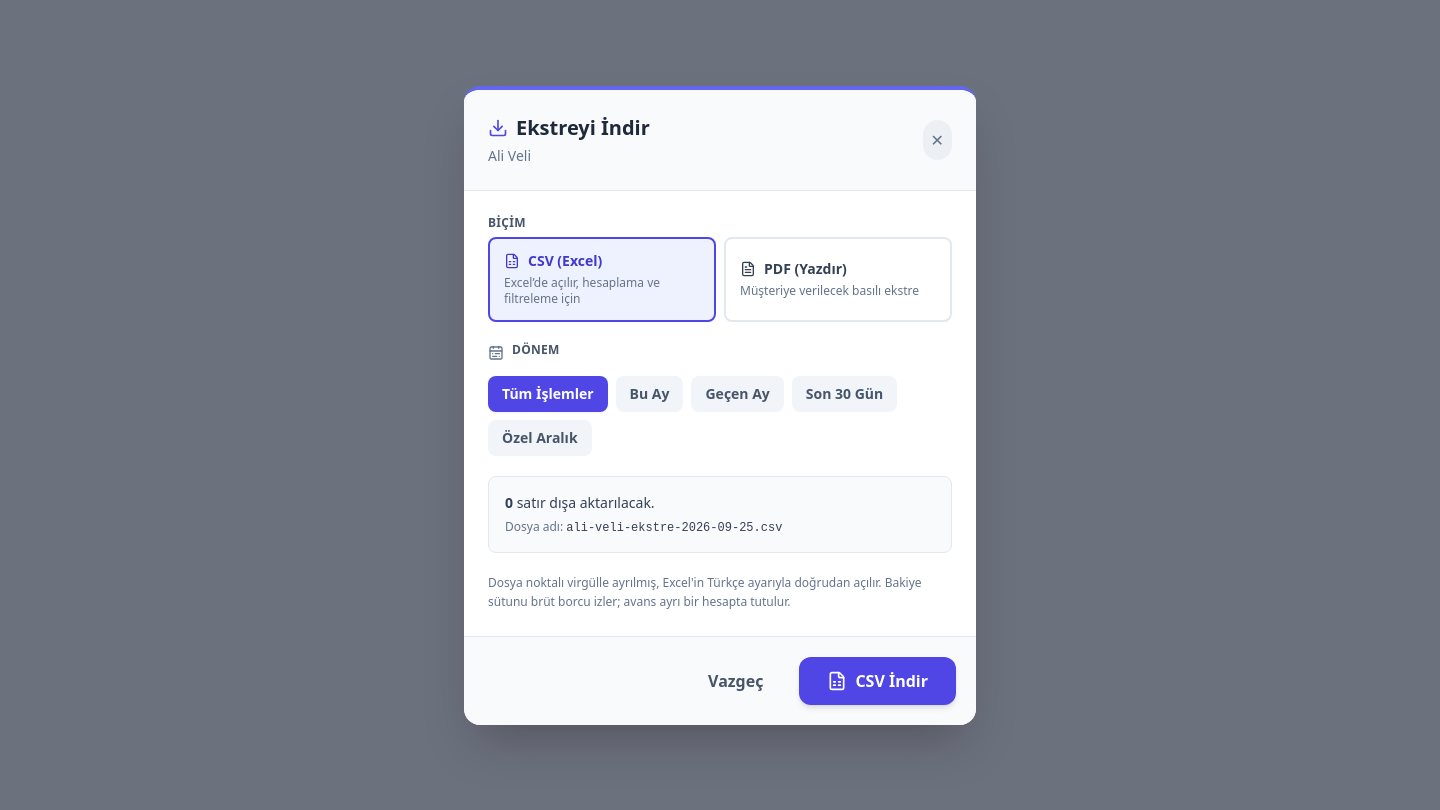
Test: StatementExportModal — PDF bicimi › bos ekstrede PDF de uretilmez
Click the button "PDF (Yazdır) Müşteriye verilecek basılı ekstre" at (838, 279), box [724,236,952,322]
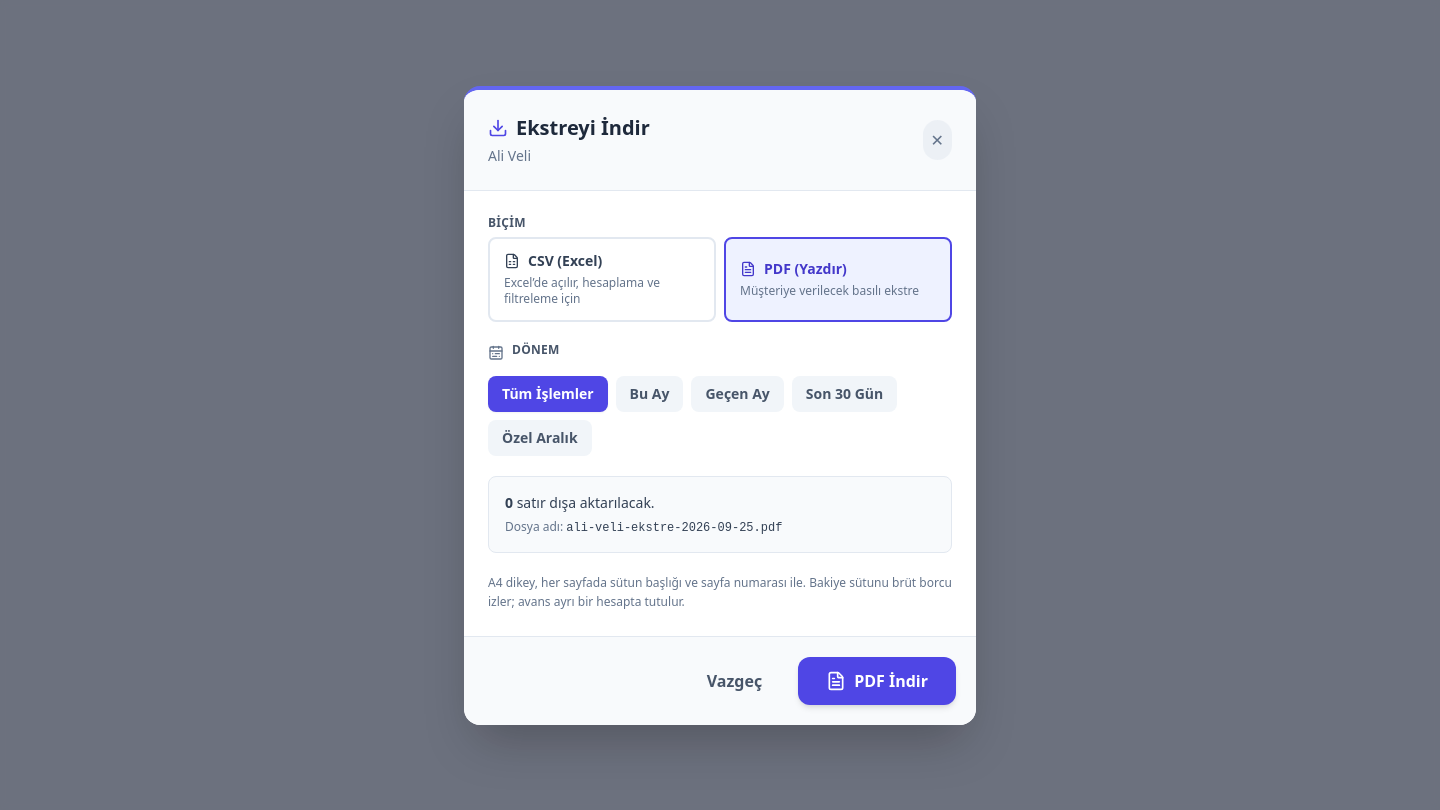
Click the button "PDF İndir" at (877, 680), box [798,656,956,704]
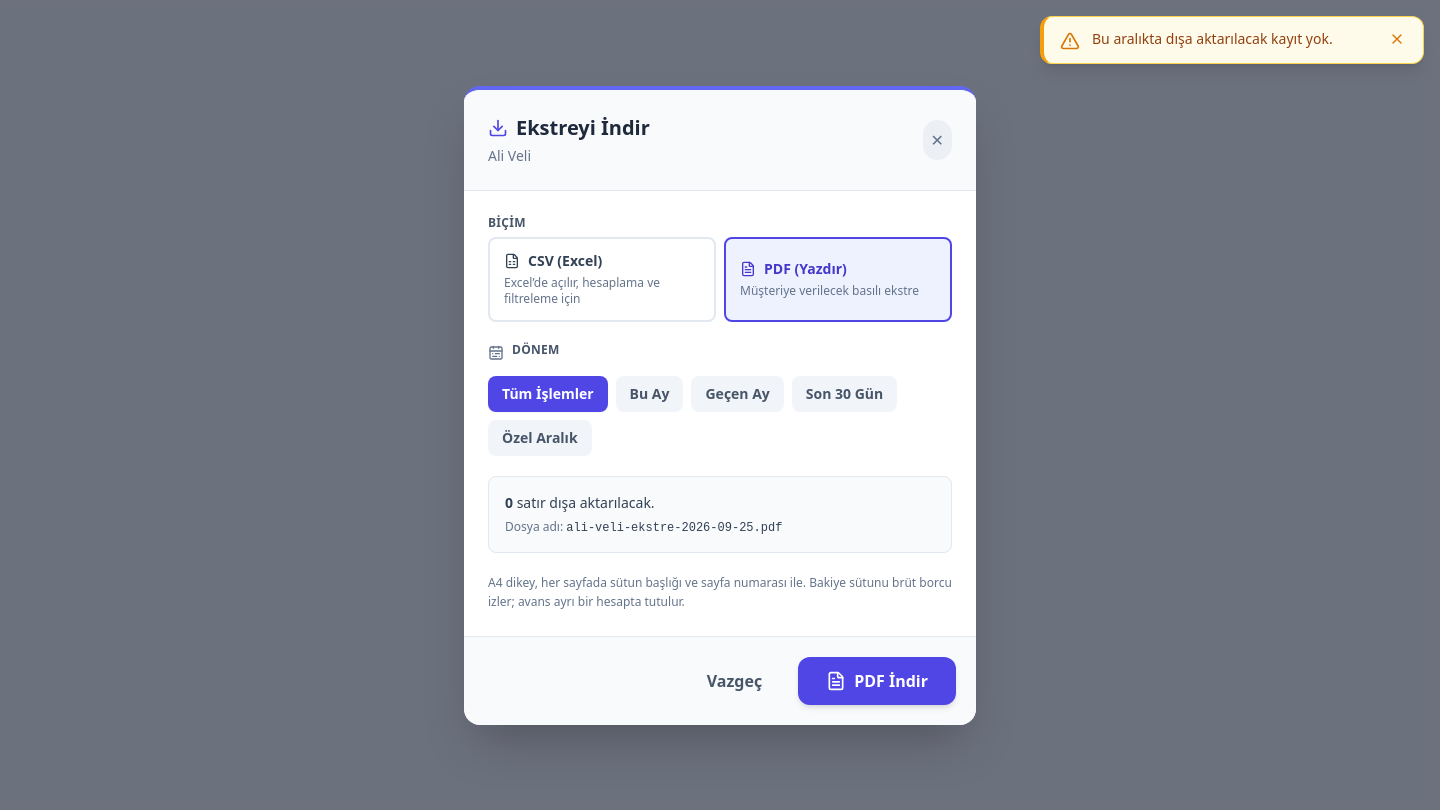
Check: the text "Bu aralıkta dışa aktarılacak kayıt yok." is shown, box [1092,29,1375,49]
